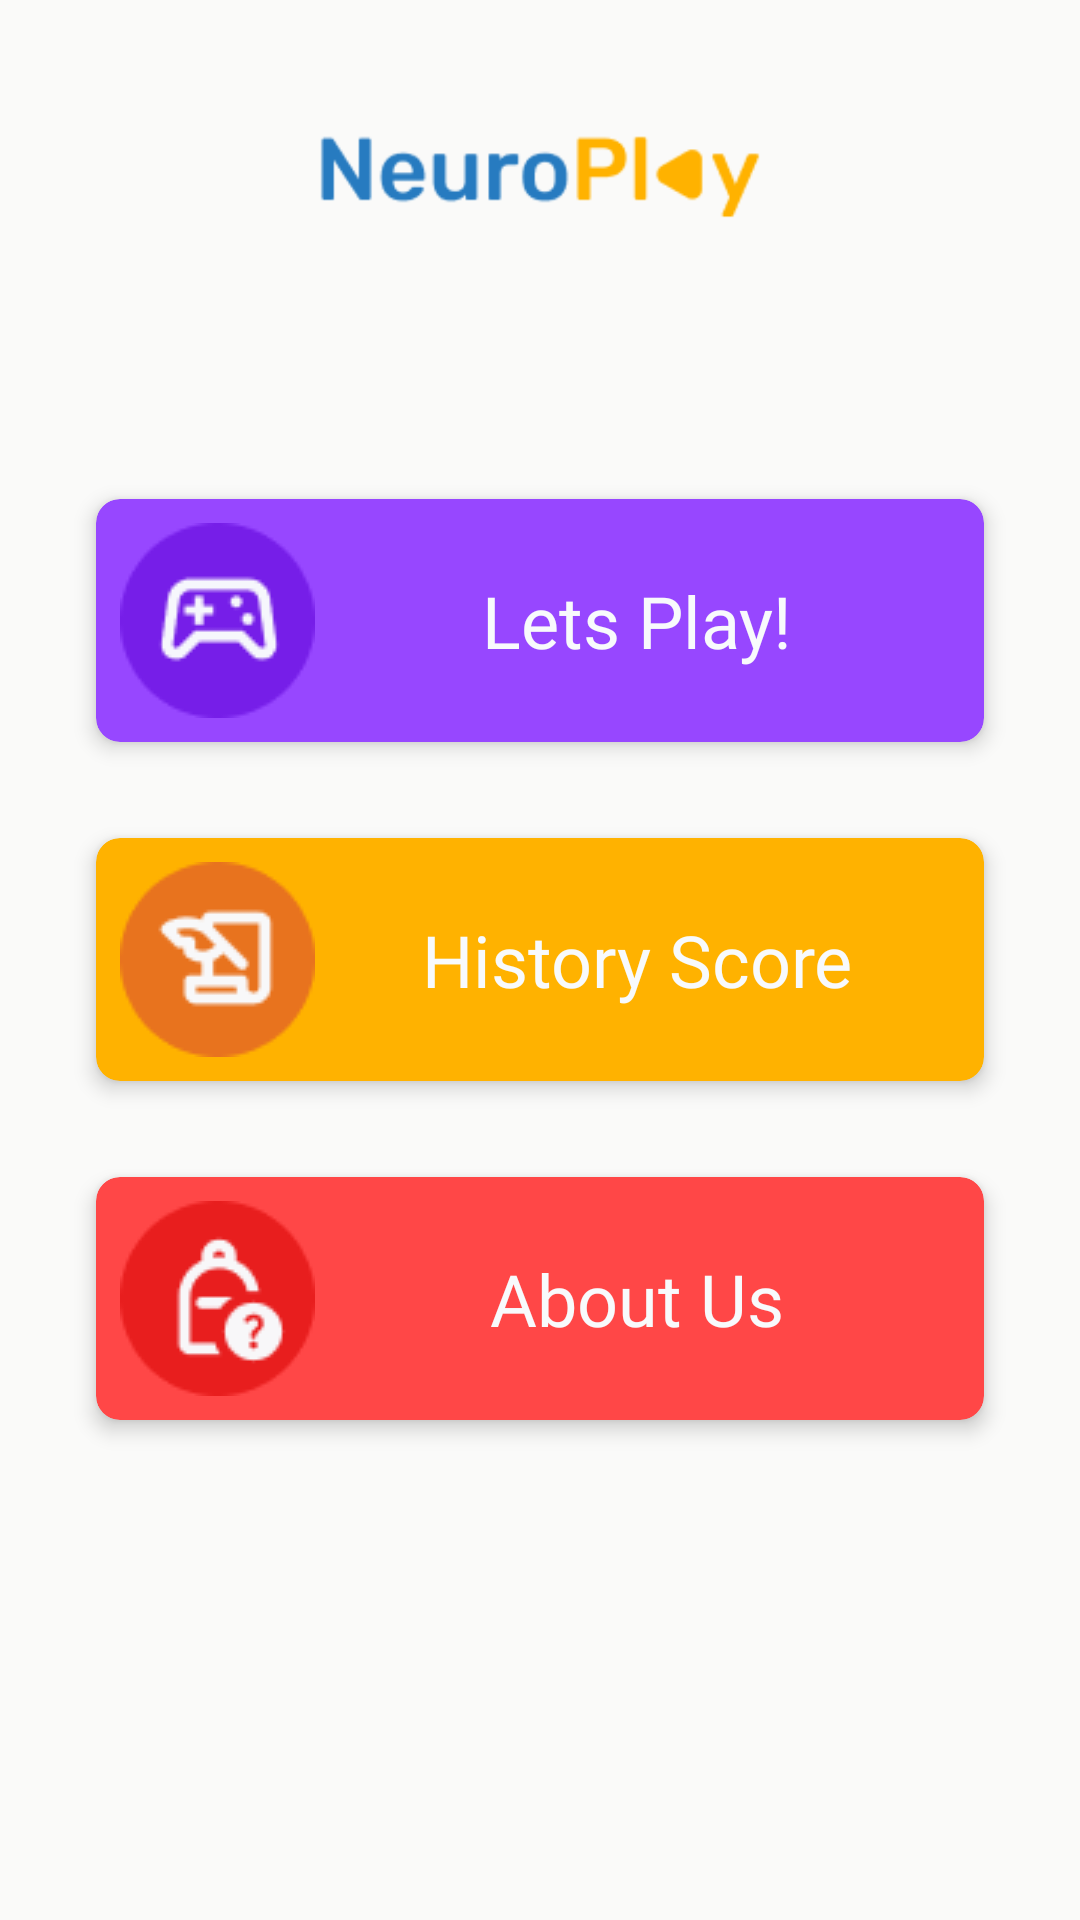

Icon bounding boxes for this 1080w x 1920h phone screenshot, format detection(x1, y1, x2, y2):
circle about: detection(120, 1201, 315, 1396)
circle game: detection(120, 523, 315, 718)
